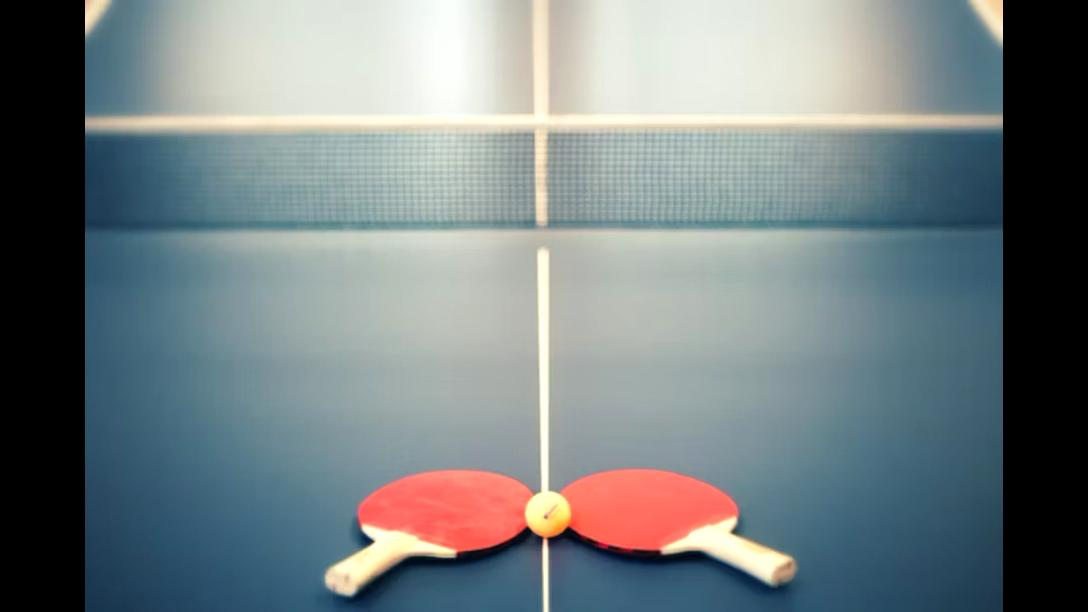Table-Tennis-Ball: (526, 490, 570, 536)
